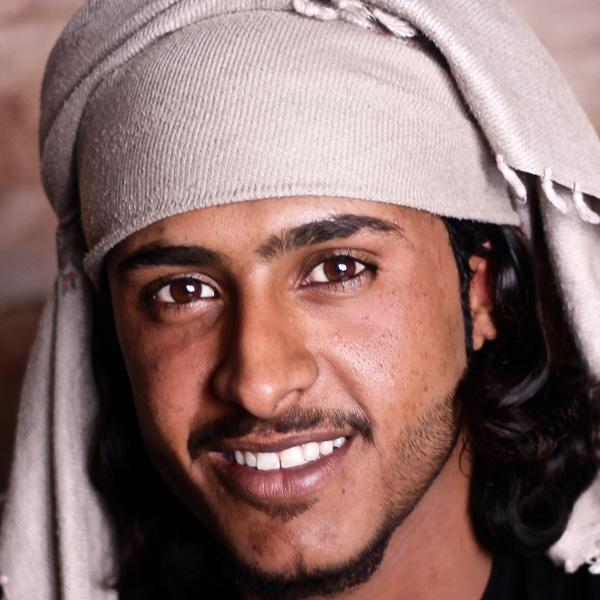Eyes: (286, 239, 388, 302), (135, 264, 228, 322)
